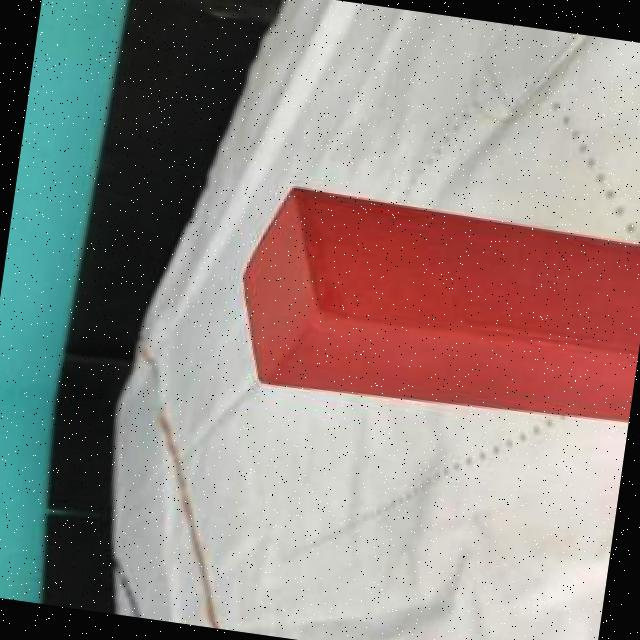redbox: (225, 178, 640, 437)
